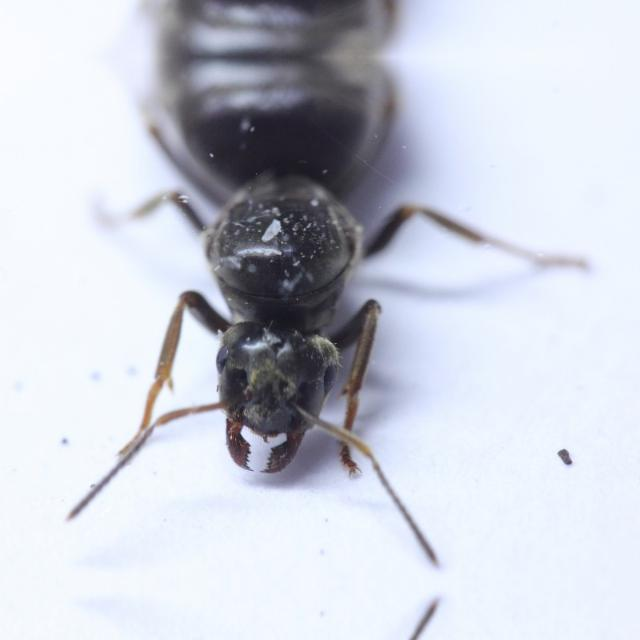Lasius: (76, 56, 497, 510)
